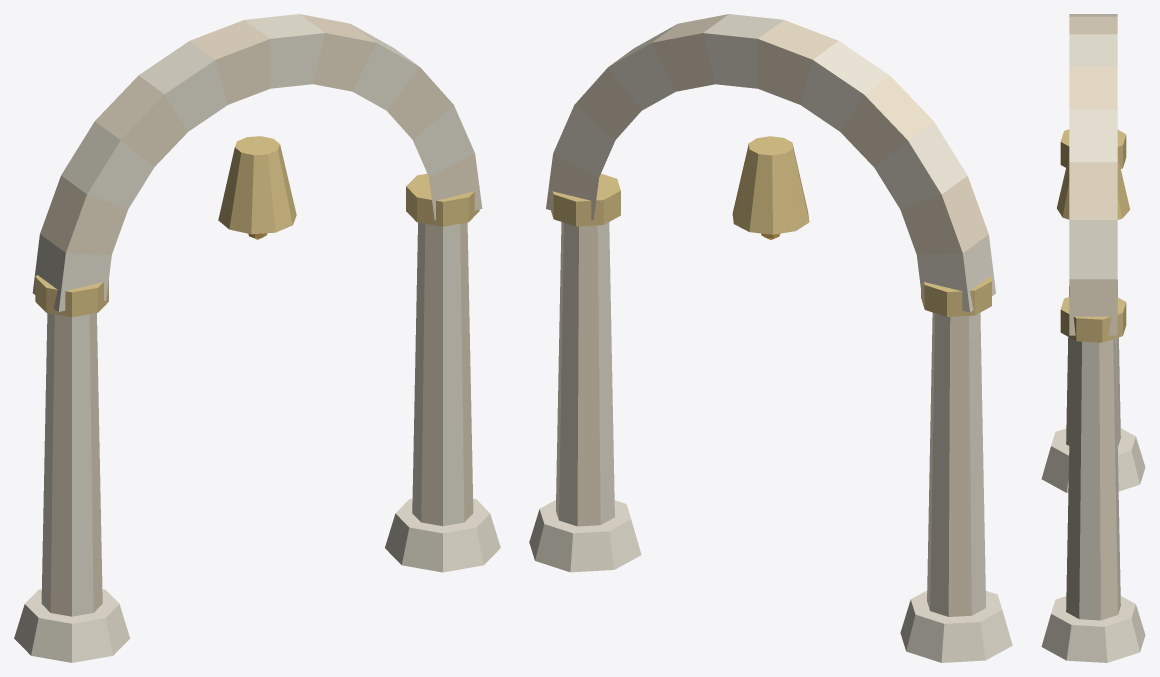
File: CloudBellArch.glb
3 renders of one model, left to right at view 1: azimuth 30°, elevation 25°; view 2: azimuth 150°, elevation 25°; view 3: azimuth 270°, elevation 25°, orthographic. The views are drawn at different scales.
Visible parts, largest first — view 1: CloudBellArch; view 2: CloudBellArch; view 3: CloudBellArch.
Boxes of the visible parts, x1=… form: CloudBellArch: x1=14, y1=14, x2=500, y2=662; CloudBellArch: x1=529, y1=14, x2=1012, y2=662; CloudBellArch: x1=1041, y1=14, x2=1145, y2=662.
Size of the model in its own units: 3.53 by 4.07 by 0.7341.
